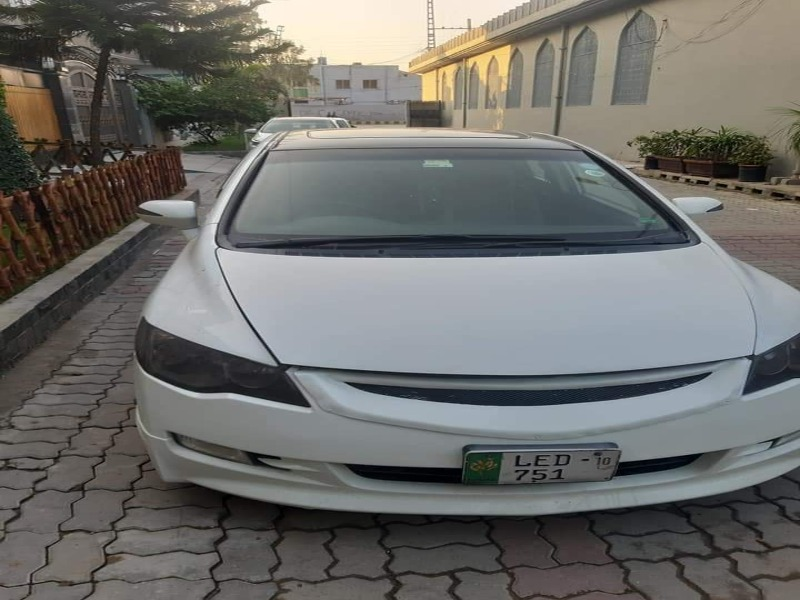License Plate: (460, 444, 630, 492)
